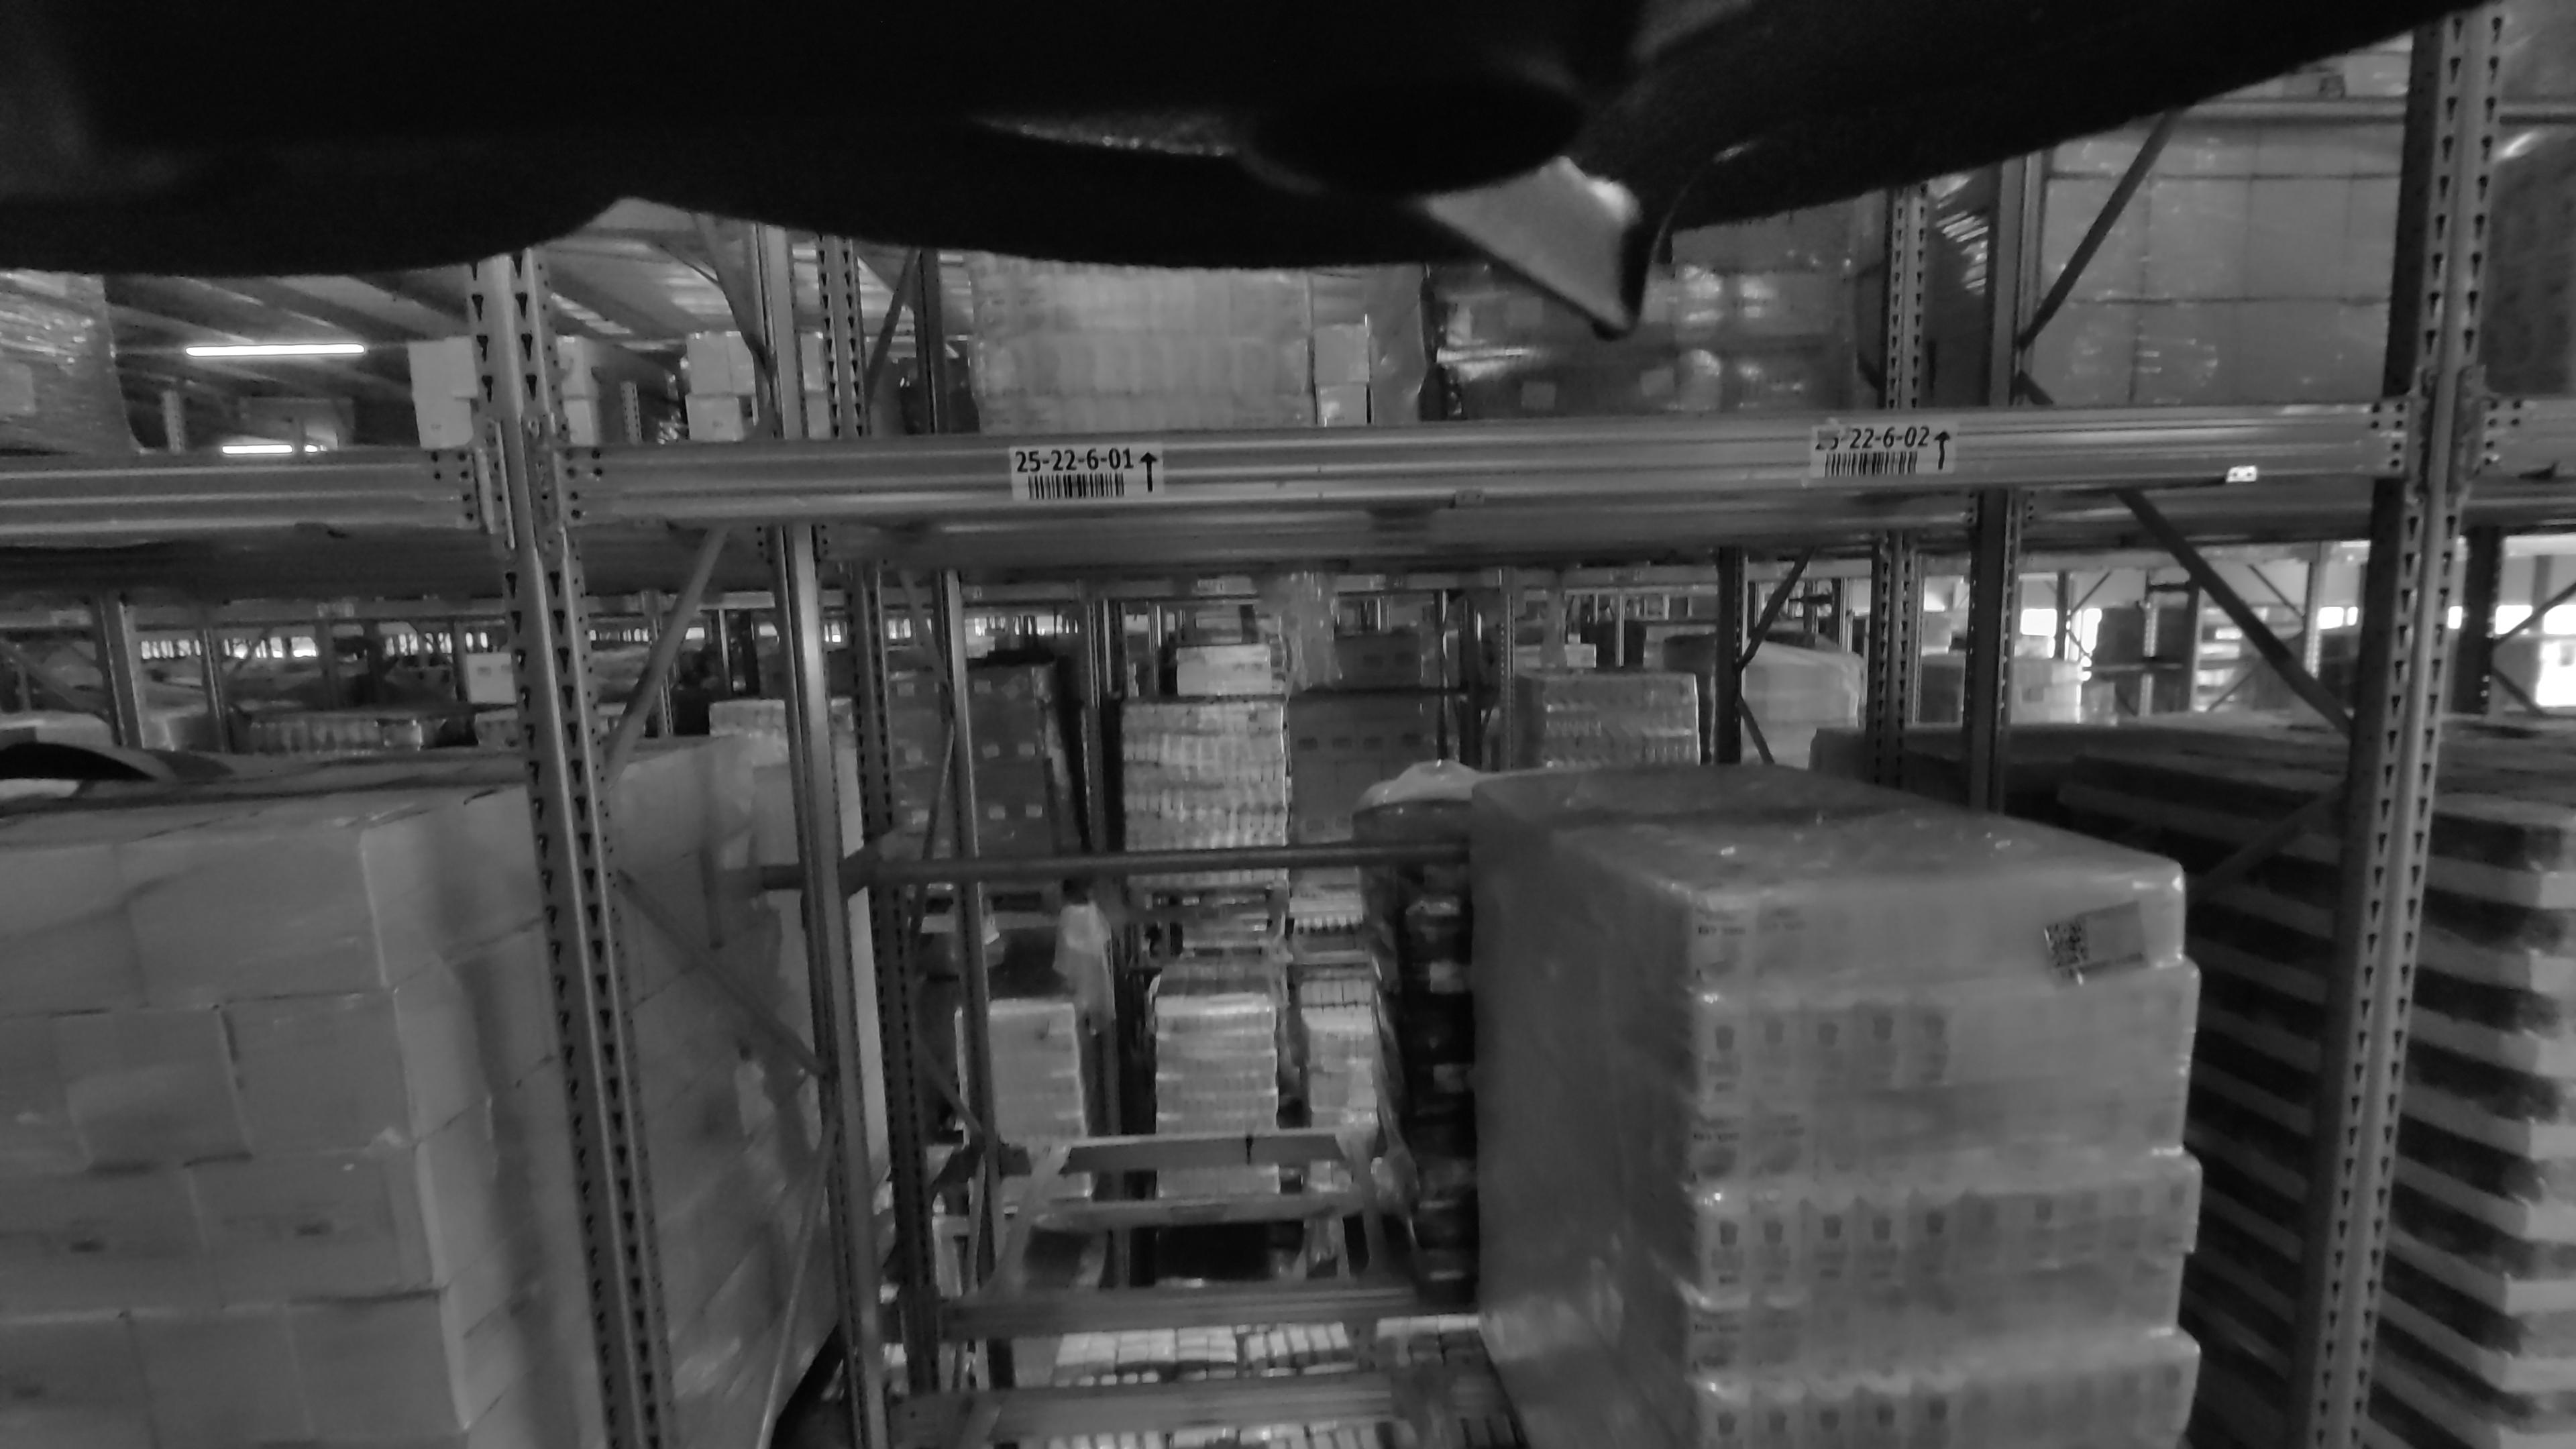empty-shelf: (904, 552, 1447, 1449), (991, 566, 1384, 1281), (631, 203, 1442, 431), (1501, 179, 2288, 396), (0, 193, 402, 474)
